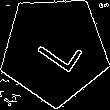L_NW: (26, 23, 83, 77)
